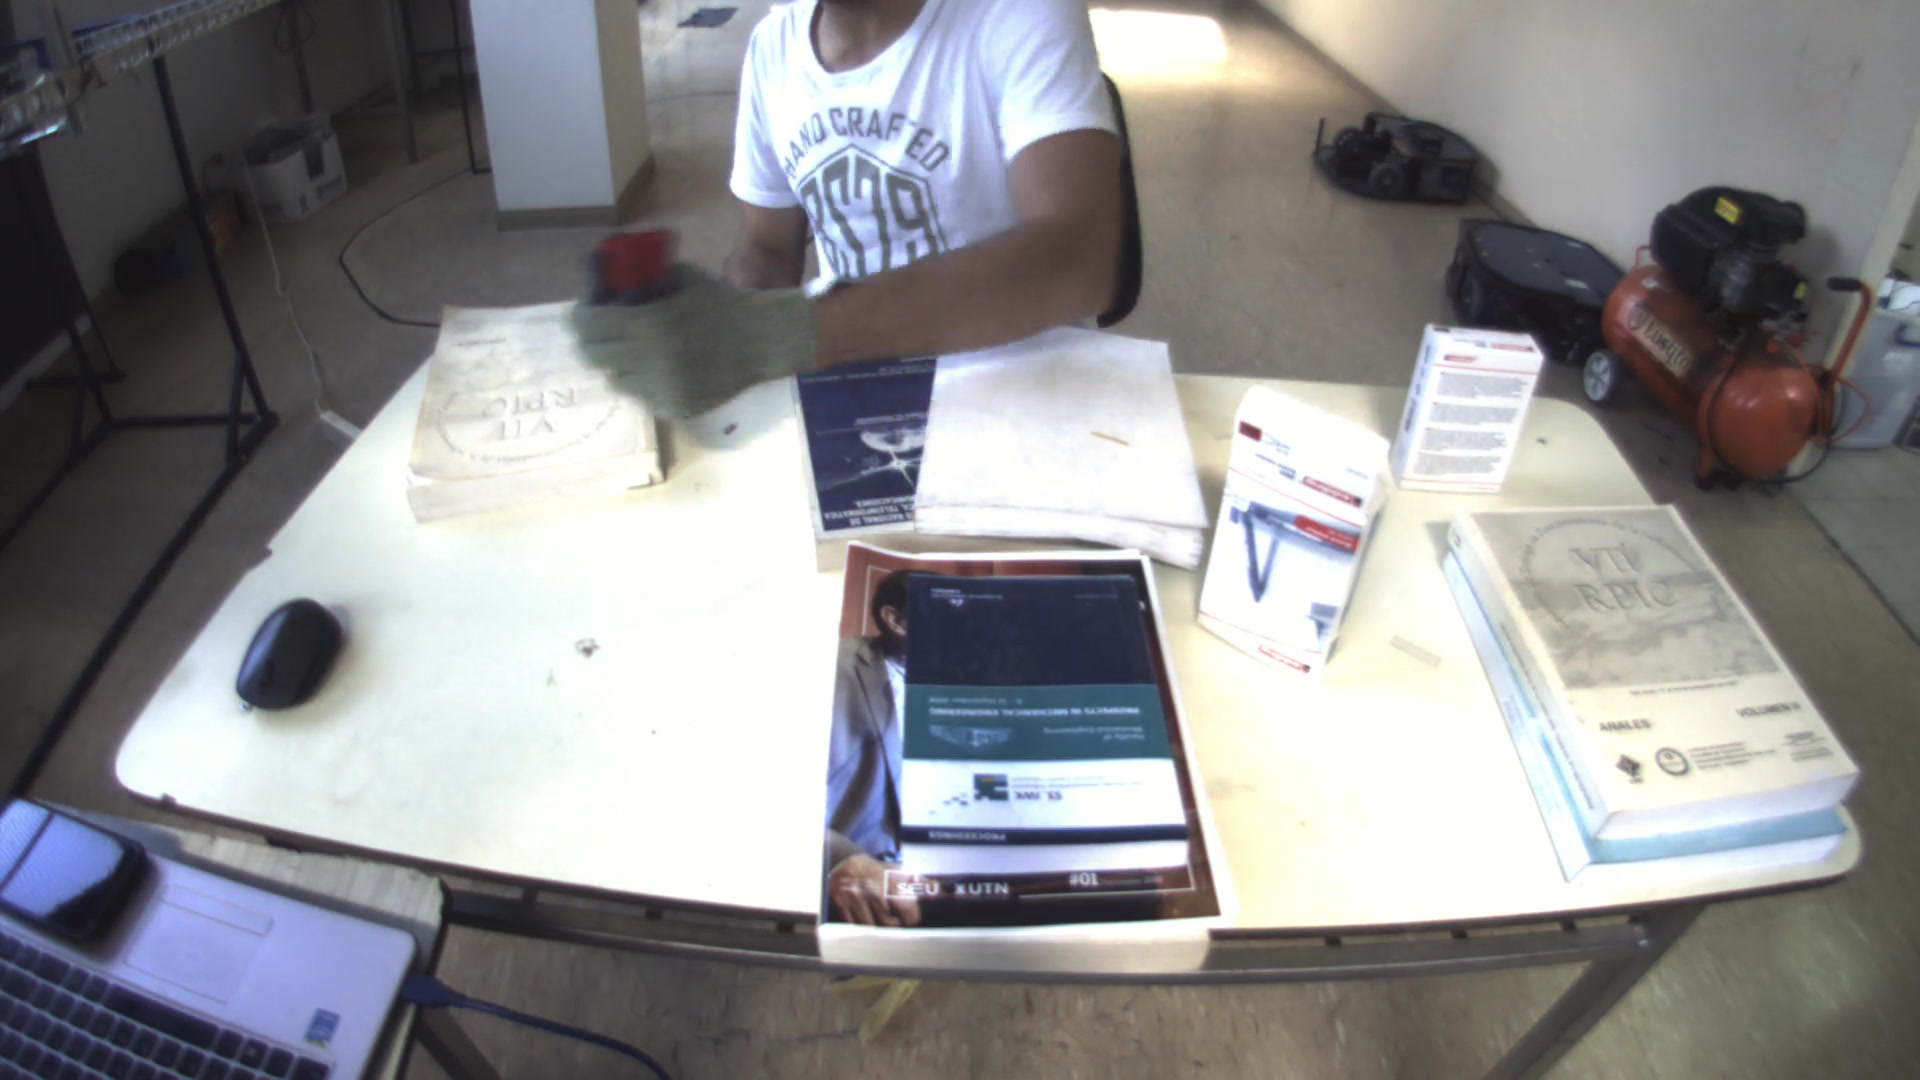hand: (553, 265, 824, 417)
